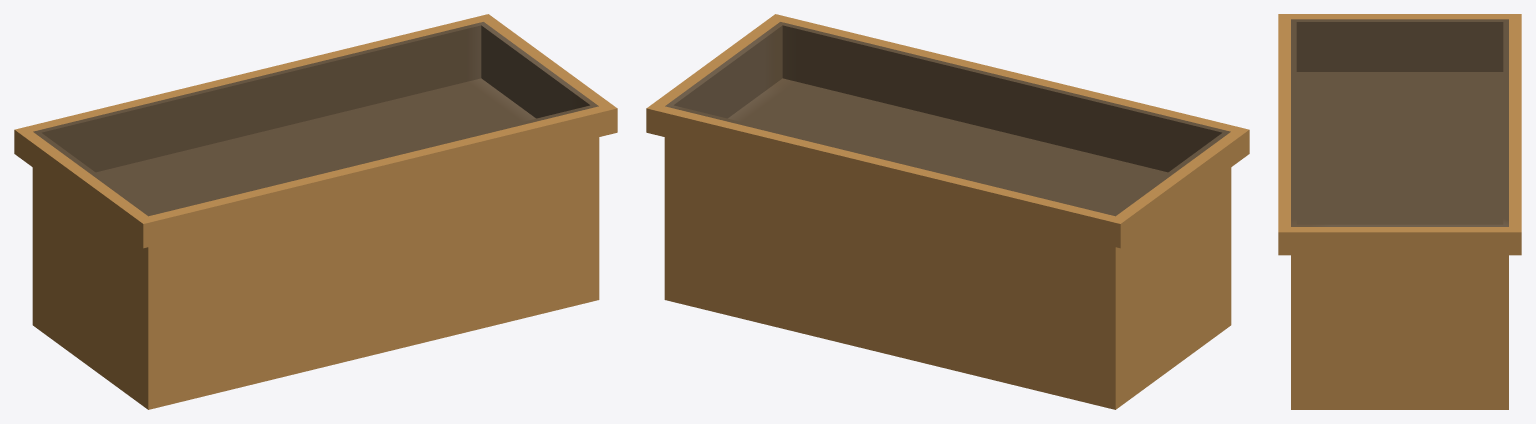
The model's file is Maseta Grande.fbx.
3 renders of one model, left to right at view 1: azimuth 30°, elevation 25°; view 2: azimuth 150°, elevation 25°; view 3: azimuth 270°, elevation 25°, orthographic. The views are drawn at different scales.
Visible parts, largest first — view 1: pCube121; view 2: pCube121; view 3: pCube121.
Part boxes in pixels (x1,y1,x2,y2): pCube121: (14, 14, 617, 409); pCube121: (646, 14, 1249, 409); pCube121: (1278, 14, 1521, 409).
Size of the model in its own units: 7.88 by 3.08 by 3.71.
